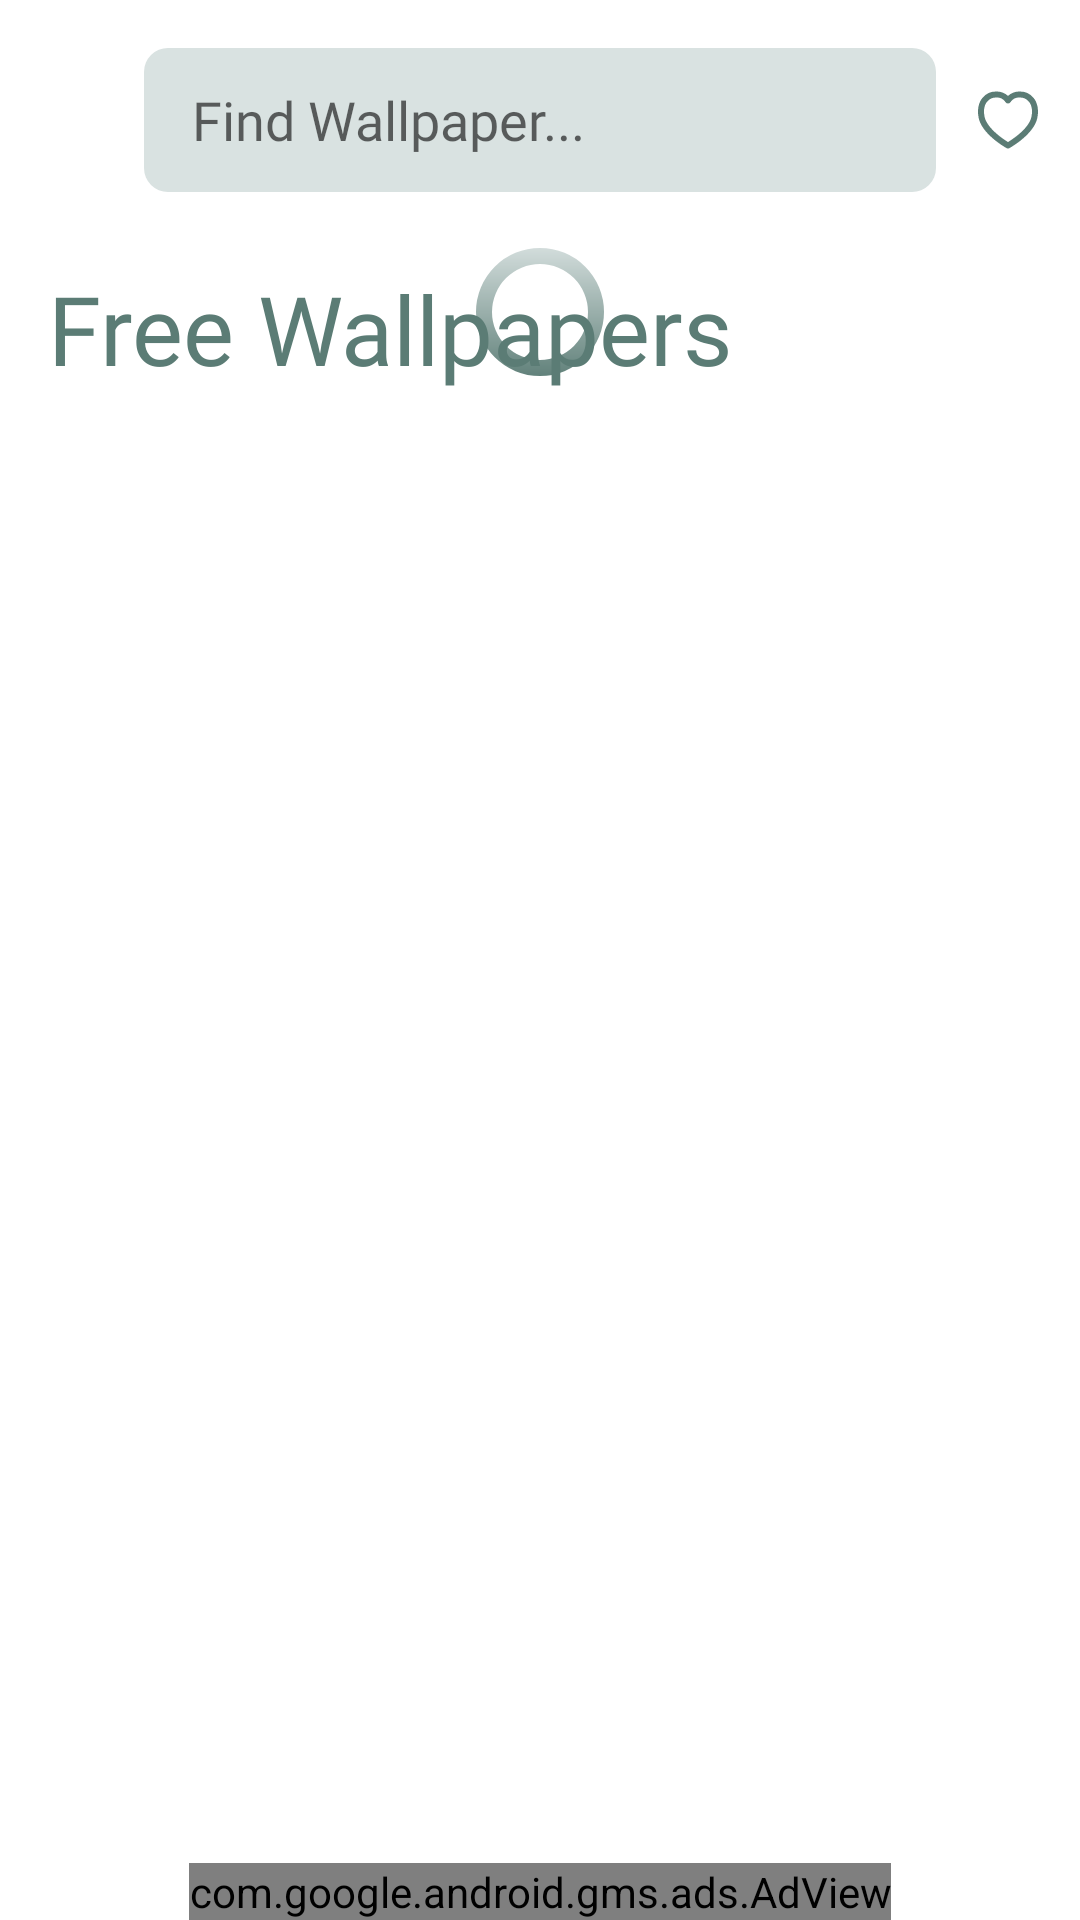

Icon click points for this 1080px×1920px phone screenshot, format (x=x, y=y):
heart: (x=1008, y=120)
